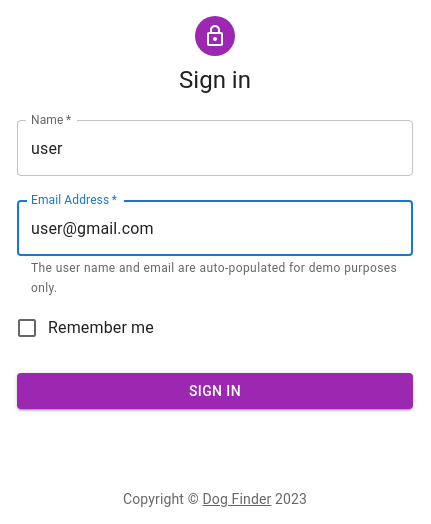
Test case: Sign in page › should not allow invalid email to sign in
Replace the text in the field labelled "Email Address *" with "user@gmail" at (215, 228), box [17,200,413,256]
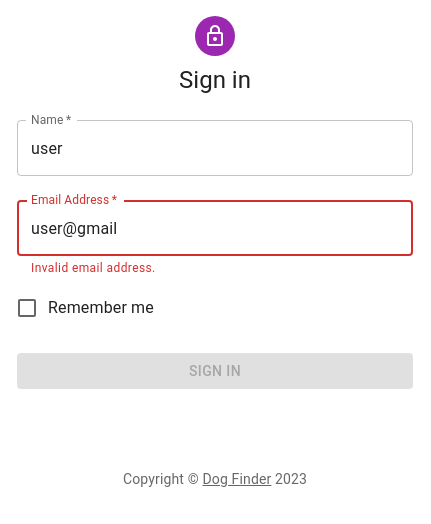
Check: the button "Sign In" is disabled, box [17,353,413,389]
